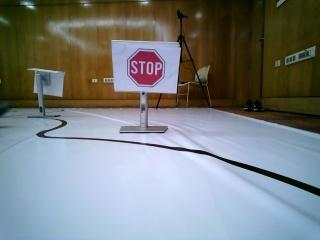stop: (114, 46, 189, 95)
